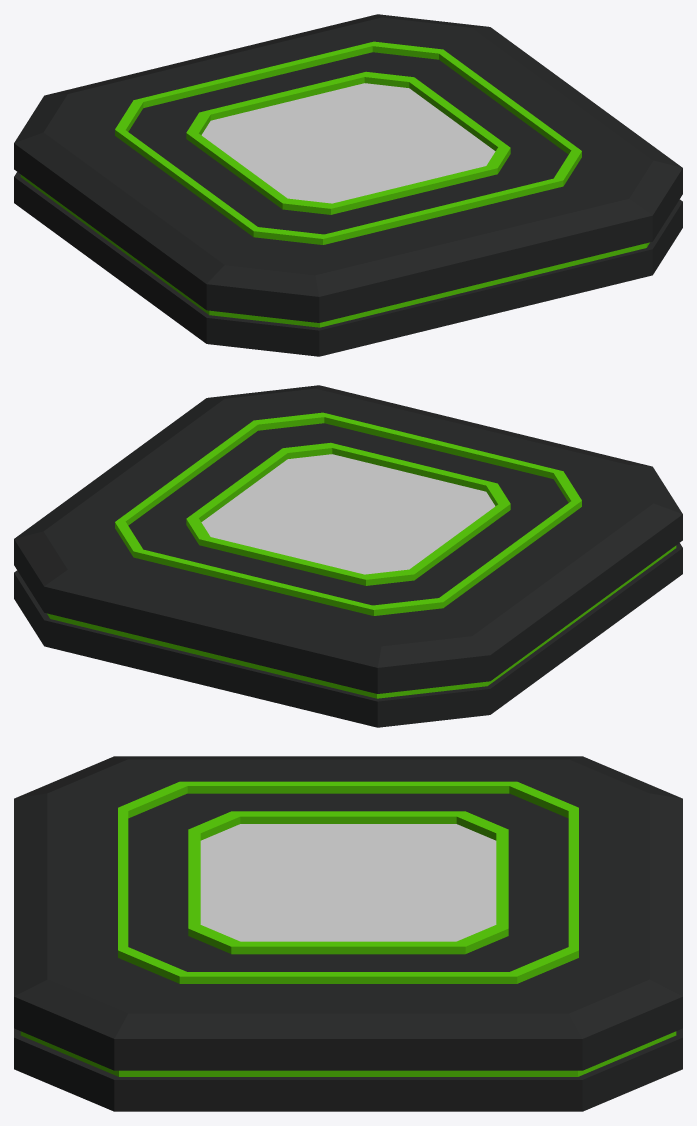
File: WallEndLevel.fbx
3 views of the same model, one above another, from view 1: azimuth 30°, elevation 25°; view 2: azimuth 150°, elevation 25°; view 3: azimuth 270°, elevation 25° (orthographic). The views are drawn at different scales.
Visible parts, largest first — view 1: Cube.002; view 2: Cube.002; view 3: Cube.002.
Boxes of the visible parts, x1,y1,x2,y2 form: Cube.002: (14, 14, 682, 356); Cube.002: (14, 385, 682, 727); Cube.002: (14, 756, 682, 1111).
Size of the model in its own units: 600 by 101 by 600.
